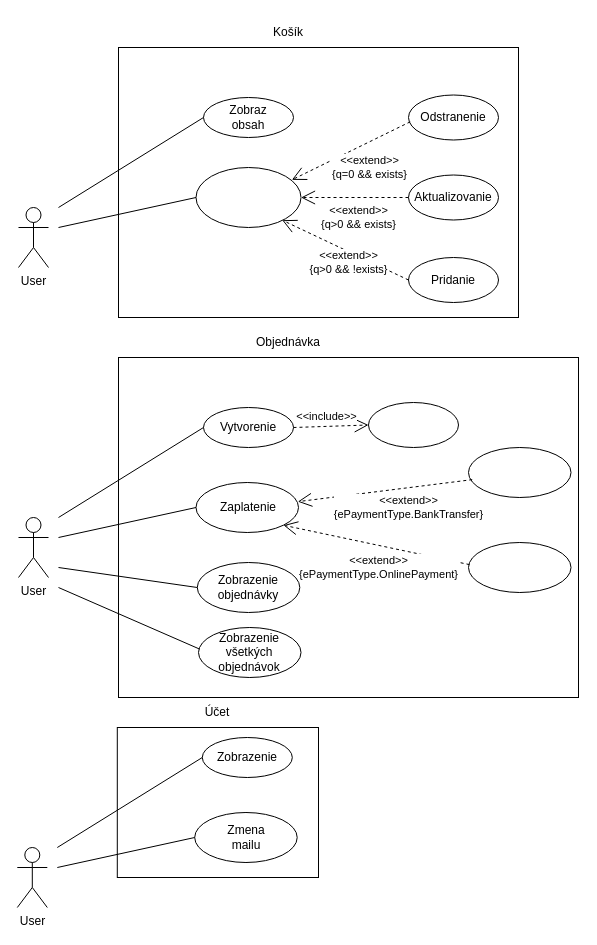
The diagram is 597 pixels wide and 945 high, and some of its shapes have lost their labels. The centre of each missing label's shape, as x and y in pixels:
Bankovy prevod: (x=519, y=472)
Kopia itemov z kosika: (x=413, y=425)
Nastavenie kvantity produktu: (x=248, y=197)
Online platba: (x=519, y=567)
